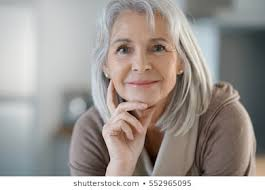white_female: (108, 22, 186, 111)
